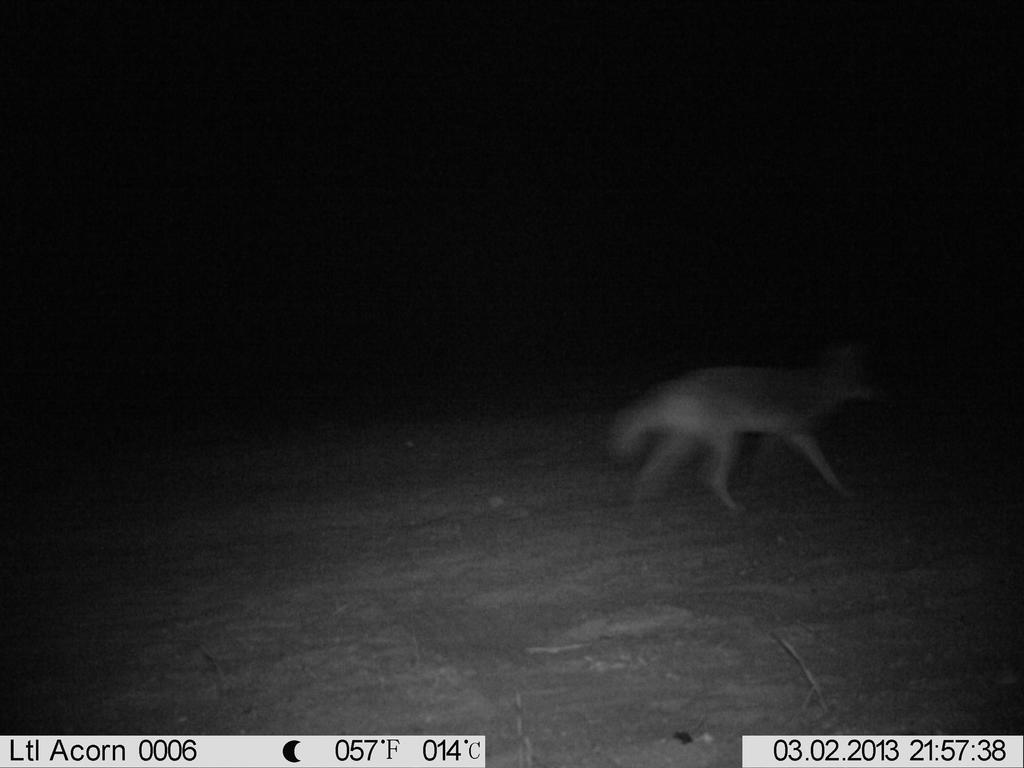coyote: (605, 335, 895, 534)
